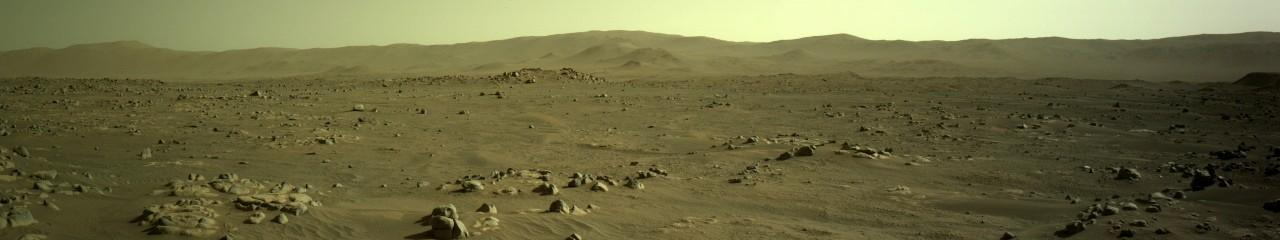bedrock: (5, 65, 645, 237), (466, 178, 582, 233), (1051, 211, 1105, 229), (353, 117, 374, 135), (1244, 93, 1252, 98), (1250, 116, 1255, 117), (357, 114, 359, 115)
big_rock: (1260, 123, 1263, 180)
sand: (10, 27, 1274, 65), (994, 226, 1051, 236), (240, 238, 415, 239)
soil: (502, 99, 1277, 239), (461, 72, 1241, 125), (160, 96, 415, 149), (3, 99, 48, 236), (638, 130, 728, 163), (844, 133, 1168, 139), (623, 190, 672, 212), (350, 181, 401, 191), (957, 164, 1021, 171), (416, 230, 454, 237), (709, 186, 749, 191), (623, 219, 647, 226), (983, 226, 1002, 232), (598, 164, 631, 165), (584, 220, 597, 222), (482, 236, 493, 237)
